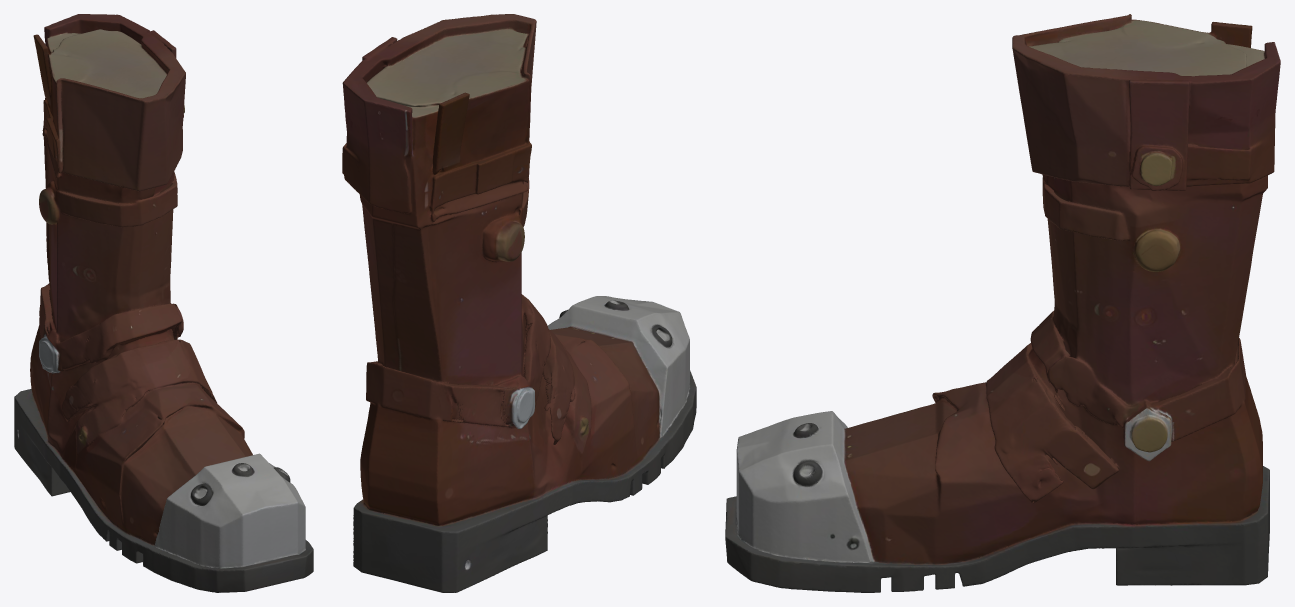
Rendered from gear_boot.glb.
The picture shows the model from 3 angles, left to right: view 1: azimuth 30°, elevation 25°; view 2: azimuth 150°, elevation 25°; view 3: azimuth 270°, elevation 25°; orthographic projection. The views are drawn at different scales.
Visible parts, largest first — view 1: tripo_node_369e661f-ef3b-4a64-9e21-4909add311e6; view 2: tripo_node_369e661f-ef3b-4a64-9e21-4909add311e6; view 3: tripo_node_369e661f-ef3b-4a64-9e21-4909add311e6.
Boxes of the visible parts, x1,y1,x2,y2 form: tripo_node_369e661f-ef3b-4a64-9e21-4909add311e6: (14, 14, 313, 592); tripo_node_369e661f-ef3b-4a64-9e21-4909add311e6: (342, 14, 696, 592); tripo_node_369e661f-ef3b-4a64-9e21-4909add311e6: (725, 14, 1280, 592).
Bounding box in the file's own units: 0.3853 × 1 × 0.9777.
1 material, 1 textured.
